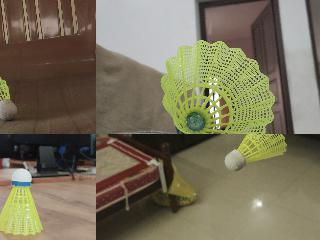shuttlecock: (161, 39, 276, 133), (0, 168, 43, 234), (224, 134, 287, 171), (0, 74, 17, 120)
